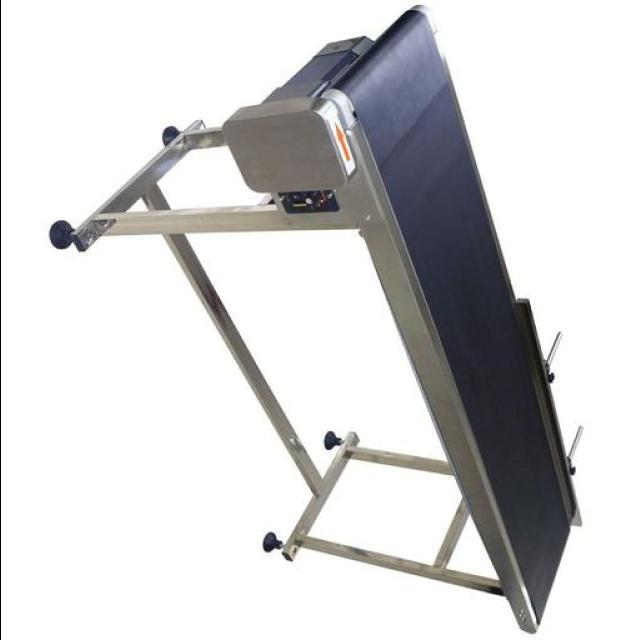conveyor: (321, 5, 576, 620)
